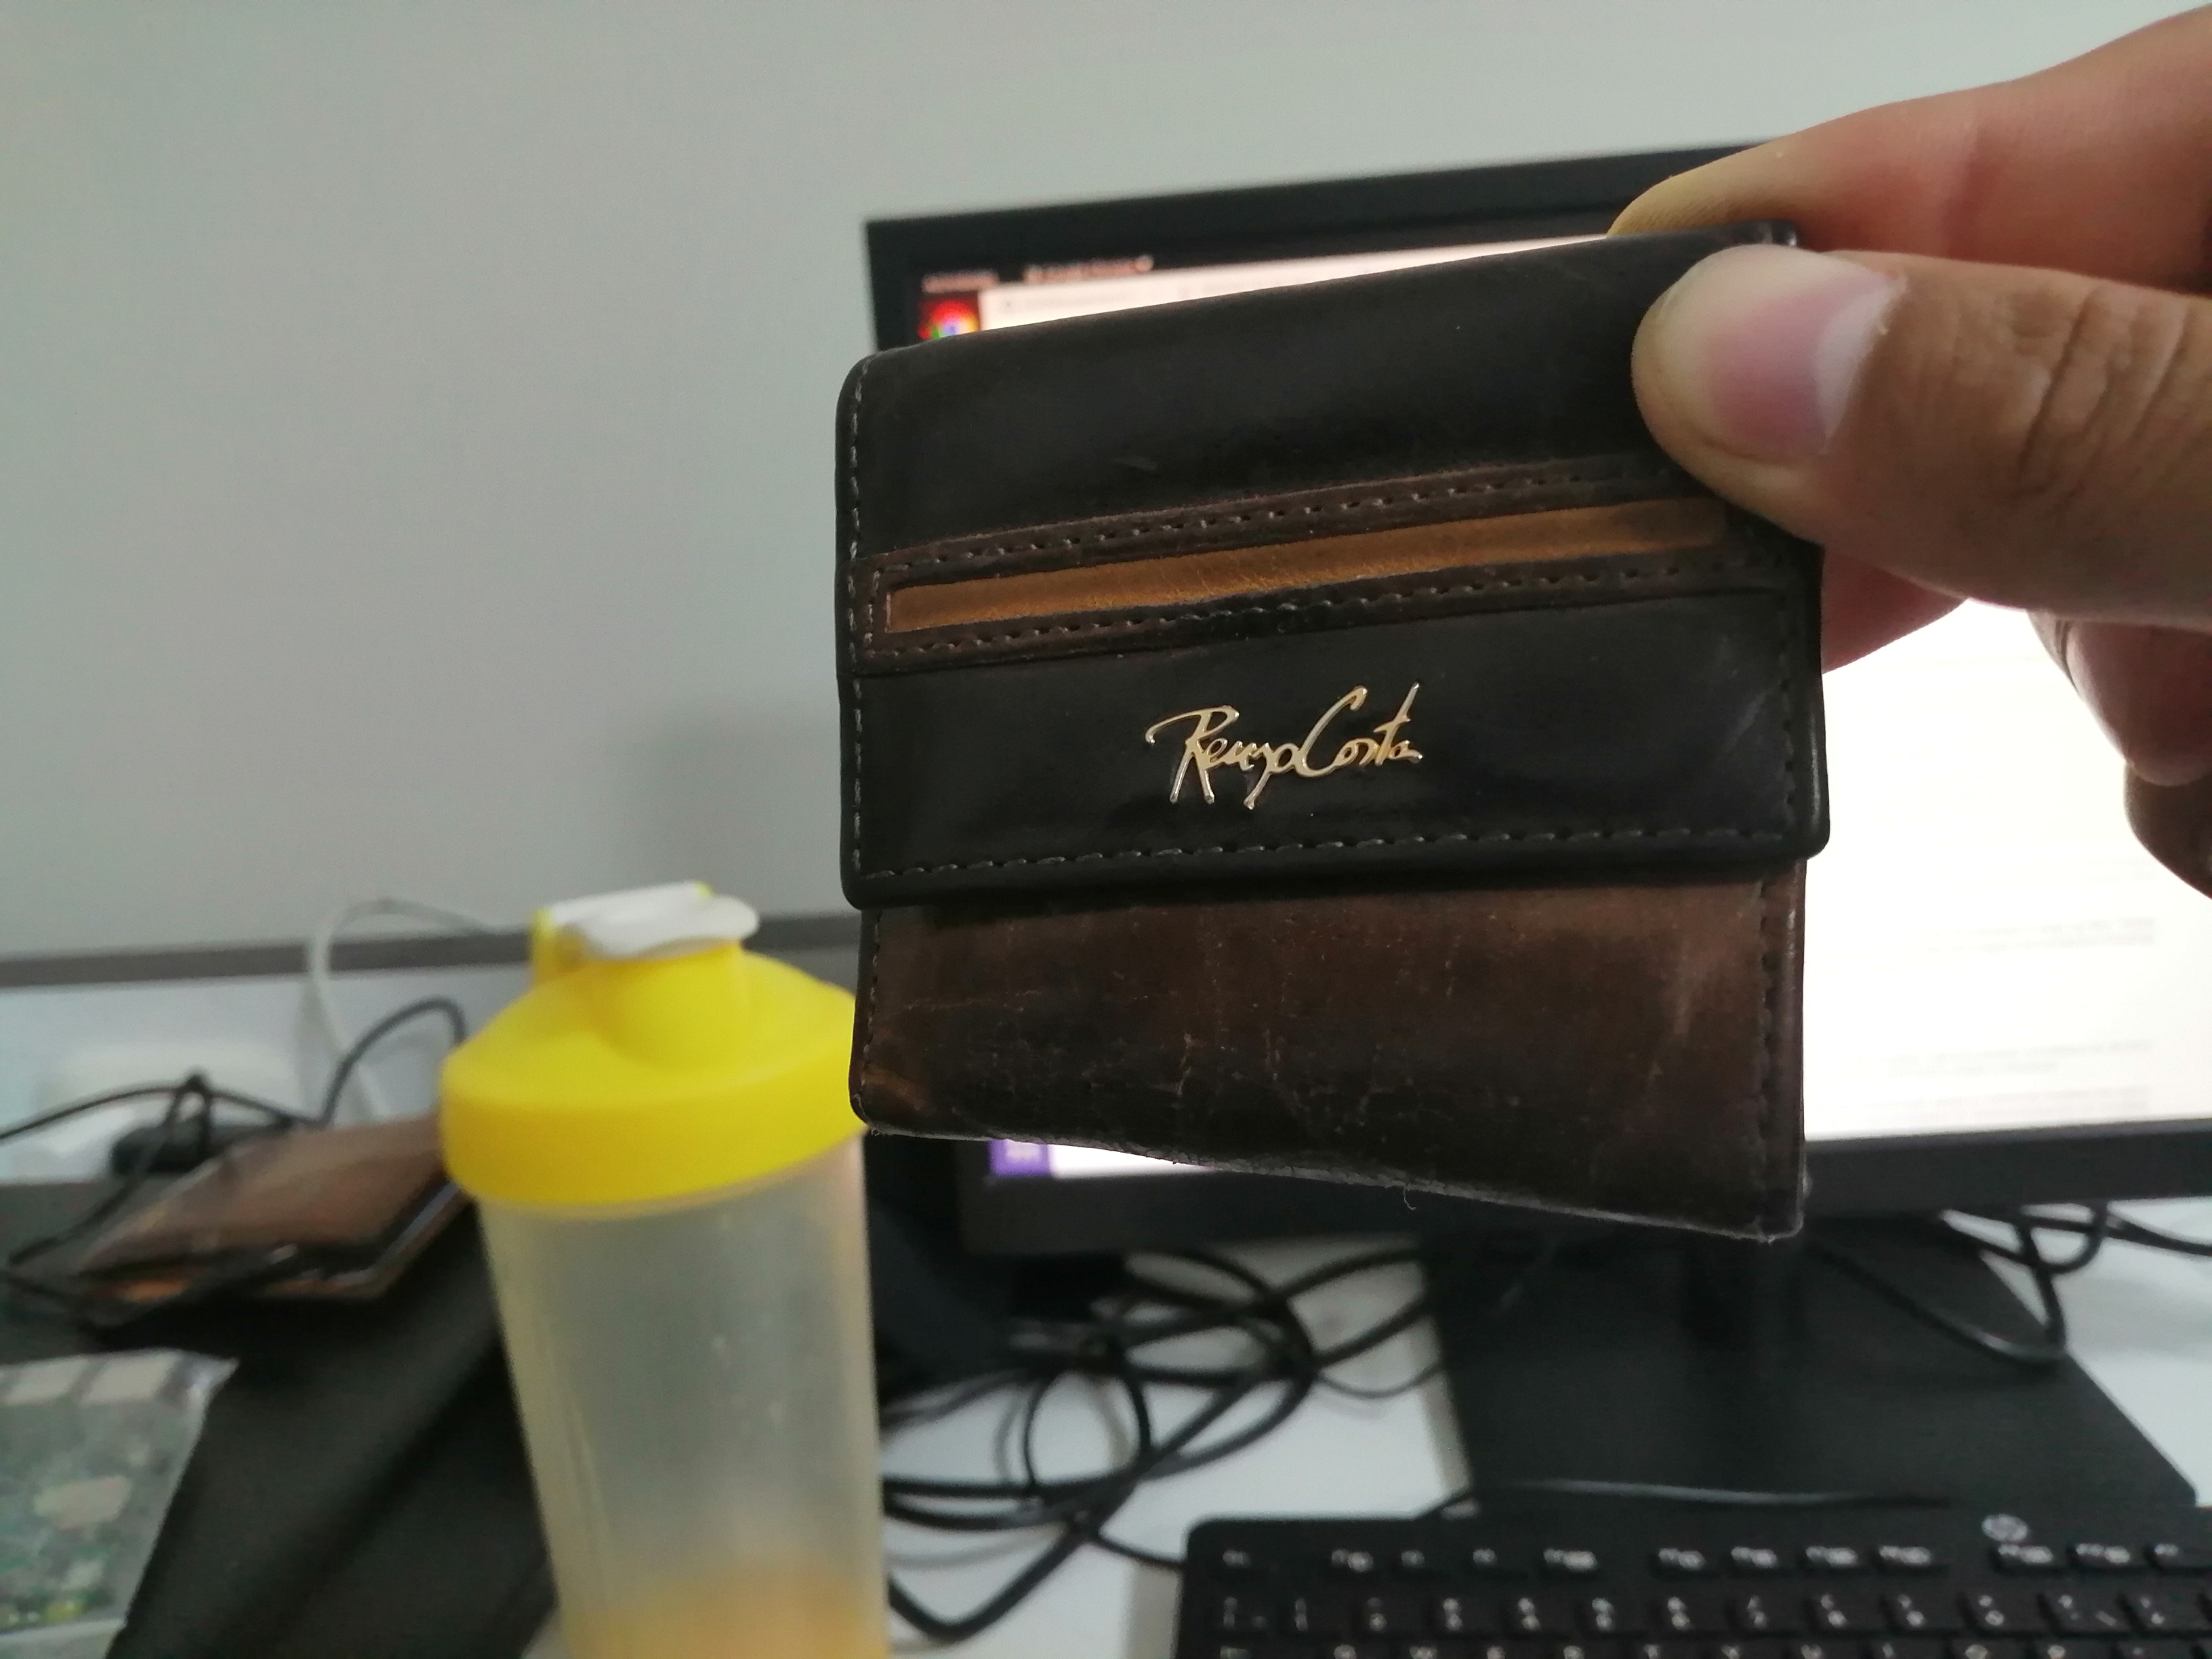monedero: (784, 206, 1858, 1262)
